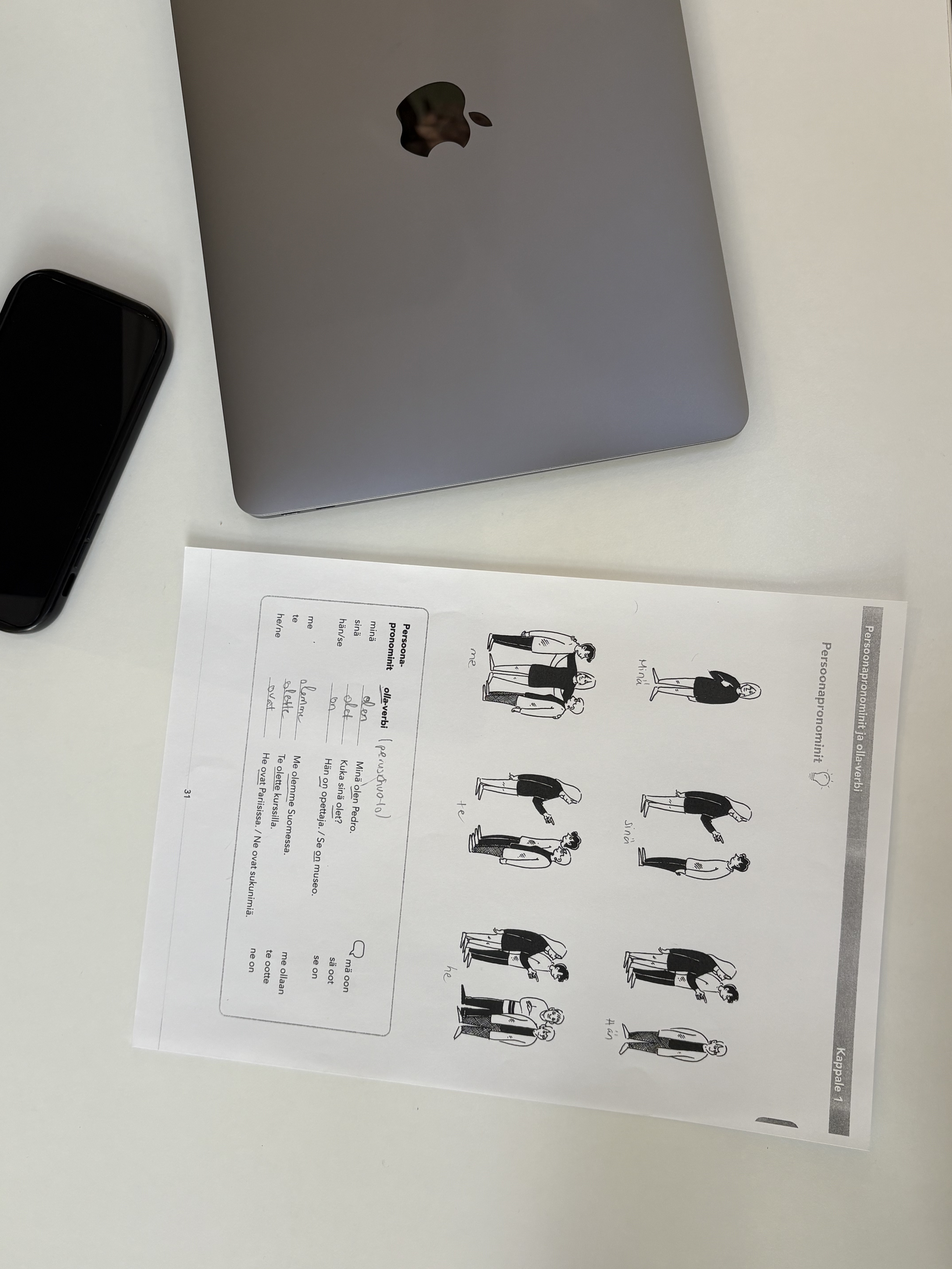paper: (125, 542, 910, 1147)
